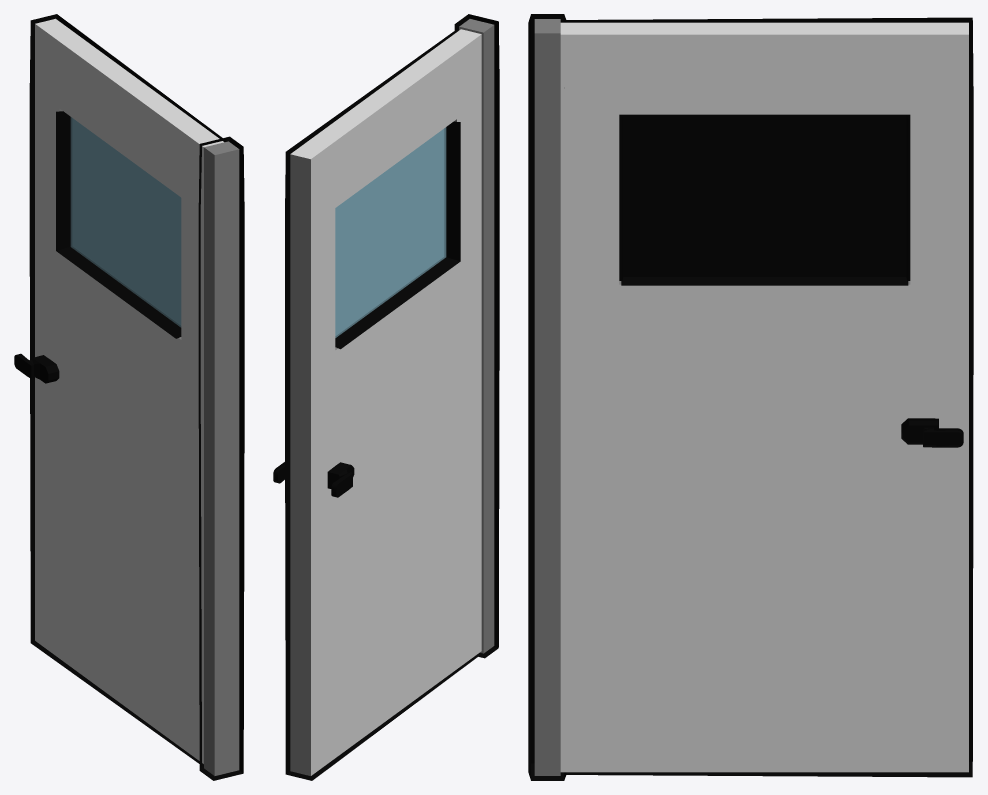
Rendered from normal door.fbx.
The picture shows the model from 3 angles, left to right: view 1: azimuth 30°, elevation 25°; view 2: azimuth 150°, elevation 25°; view 3: azimuth 270°, elevation 25°; orthographic projection. The views are drawn at different scales.
Visible parts, largest first — view 1: Cube.041; view 2: Cube.041; view 3: Cube.041.
Part boxes in pixels (left/top/right/bottom): Cube.041: left=14, top=14, right=244, bottom=780; Cube.041: left=273, top=14, right=499, bottom=780; Cube.041: left=528, top=14, right=973, bottom=780.
Bounding box in the file's own units: 30.38 × 288 × 155.
